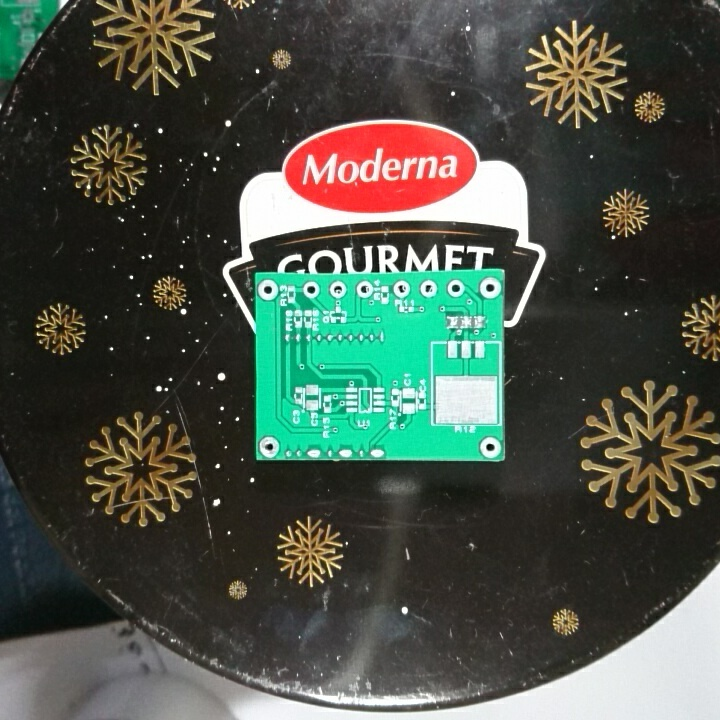F: (477, 435, 503, 461), (477, 275, 502, 300), (257, 278, 282, 303), (257, 435, 282, 458), (444, 278, 466, 299), (417, 278, 439, 299), (391, 278, 412, 300), (326, 279, 349, 299), (300, 280, 323, 300), (353, 278, 373, 300)
P: (366, 446, 389, 459), (335, 446, 356, 460), (303, 446, 325, 458)
